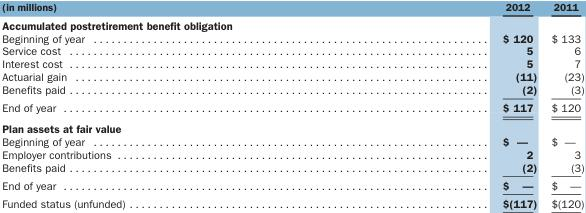table: (1, 0, 583, 209)
table column: (1, 0, 313, 209), (313, 0, 543, 209), (543, 0, 583, 209)
table column header: (1, 0, 583, 15)
table projected row header: (1, 117, 583, 134), (1, 15, 583, 31)
table row: (1, 98, 583, 117), (1, 175, 583, 194), (1, 117, 583, 134), (1, 15, 583, 31), (1, 82, 583, 98), (1, 0, 583, 15), (1, 160, 583, 175), (1, 194, 583, 209), (1, 31, 583, 44), (1, 44, 583, 57), (1, 57, 583, 70), (1, 134, 583, 147), (1, 147, 583, 160), (1, 70, 583, 82)
